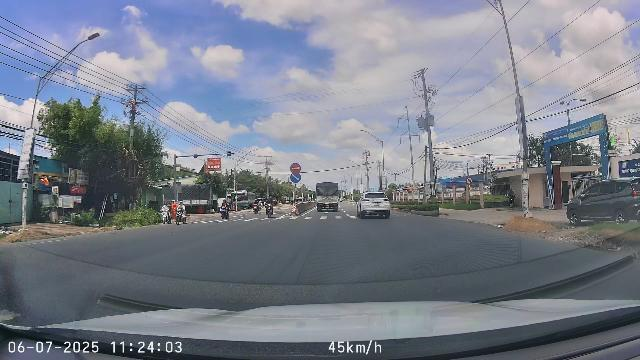102-cam-di-nguoc-chieu: (290, 163, 301, 173)
103a-cam-oto: (466, 177, 473, 185)
302a-huong-phai-di-vong-chuong-ngai-vat-1: (290, 173, 301, 183)
